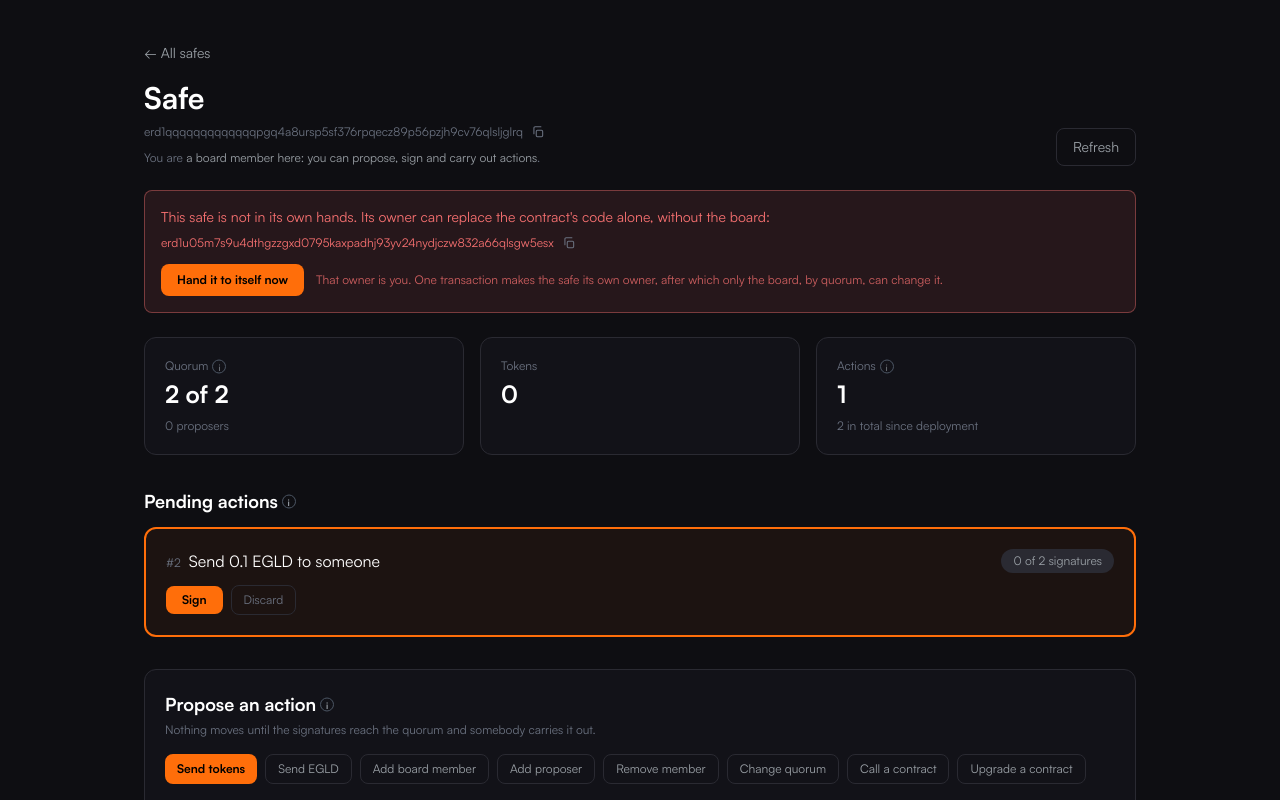
a handover the wallet refused is not reported as sent, and does not lock the page
Expected: the text "Send 0.1 EGLD to someone" is shown, [189,551,380,571]
What coordinates should you click on to do the following:
click the button "Hand it to itself now"
I would click on:
 (232, 280)
Its box is [161,264,304,296].
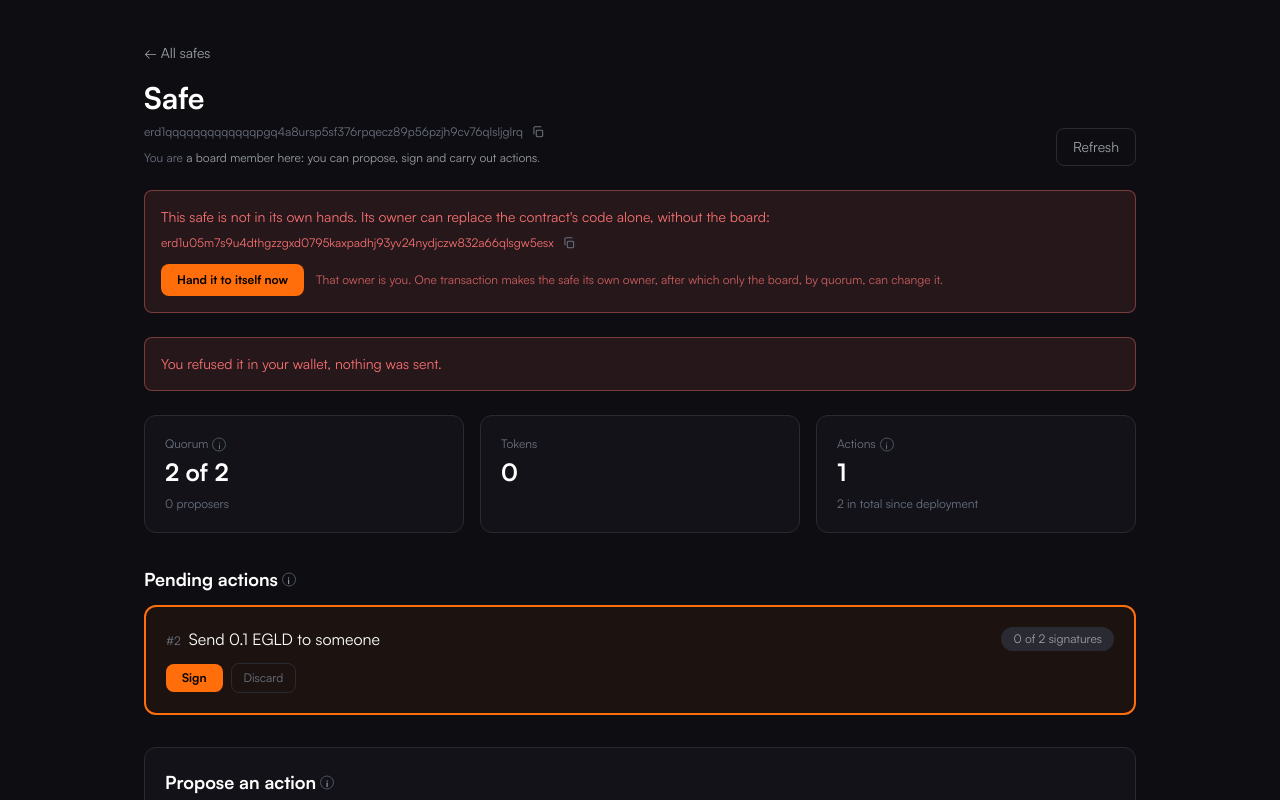
Expected: the button "Sign" is enabled, [166,664,222,692]
Expected: the text "You refused it in your wallet, nothing was sent." is shown, [144,337,1136,391]
